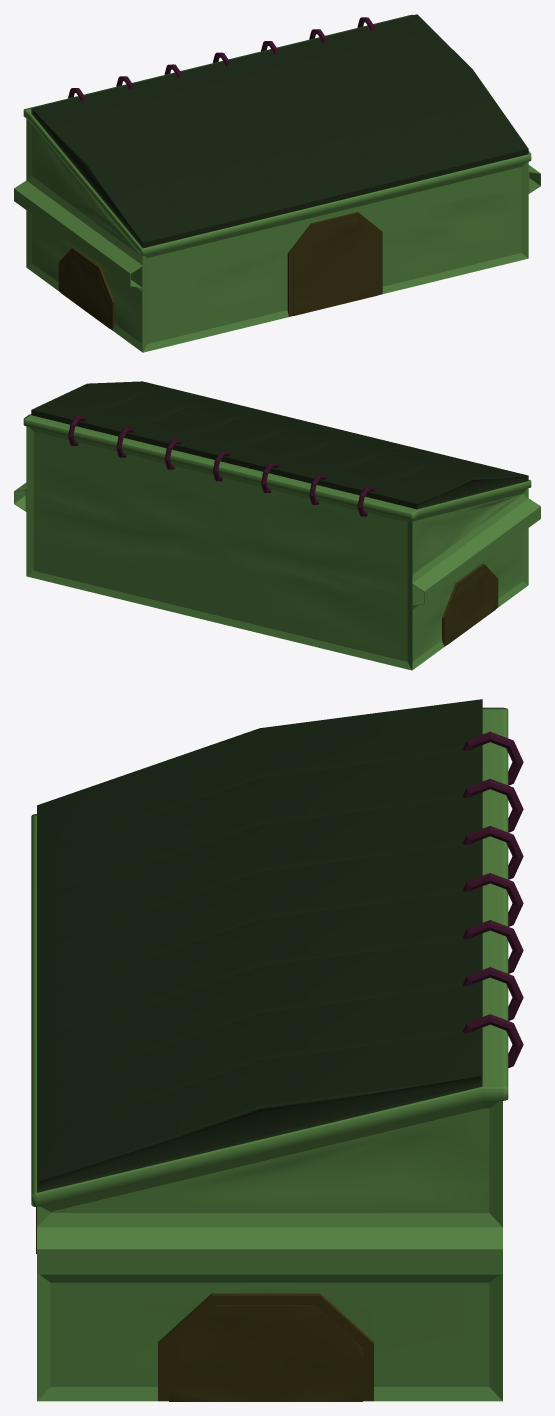
Rendered from Dumpster.fbx.
3 renders of one model, top to bottom at view 1: azimuth 30°, elevation 25°; view 2: azimuth 150°, elevation 25°; view 3: azimuth 270°, elevation 25°, orthographic. The views are drawn at different scales.
Visible parts, largest first — view 1: DumpsterShape; view 2: DumpsterShape; view 3: DumpsterShape.
Boxes of the visible parts, left/top/right/bottom form: DumpsterShape: left=14, top=14, right=540, bottom=352; DumpsterShape: left=14, top=381, right=540, bottom=670; DumpsterShape: left=31, top=699, right=523, bottom=1401.
Bounding box in the file's own units: 8.51 × 3.37 × 4.42.
